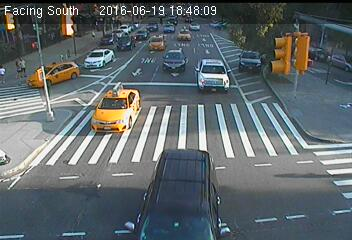neg: (124, 33, 139, 54), (320, 67, 334, 85), (289, 77, 302, 95), (65, 46, 74, 58), (57, 50, 65, 61)
pos: (14, 55, 30, 77), (9, 59, 24, 79)
